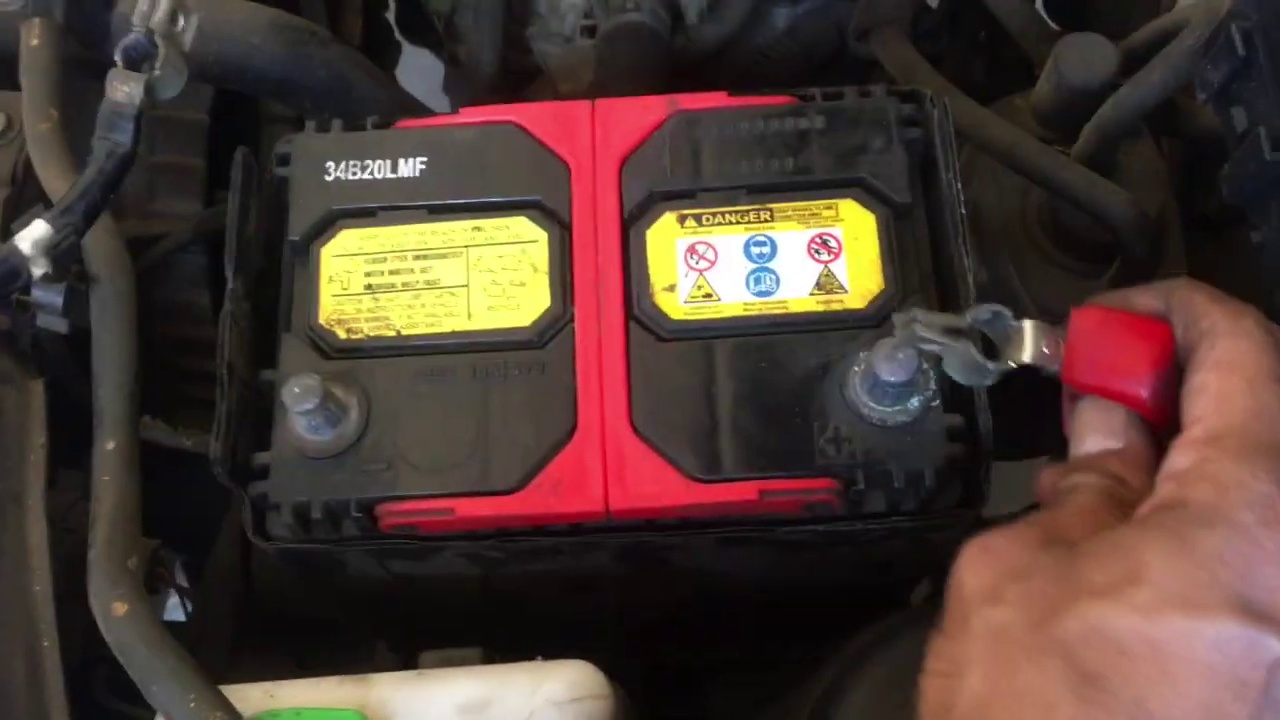battery: (264, 110, 954, 492)
neg_disconnected: (244, 341, 370, 452)
pos_disconnected: (842, 276, 1156, 432)
pos_touched: (821, 248, 1236, 598)
